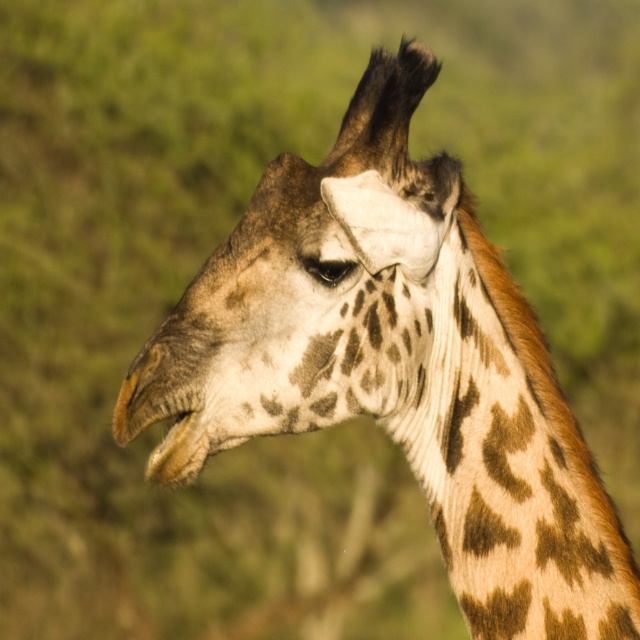Giraffe: (107, 32, 640, 639)
